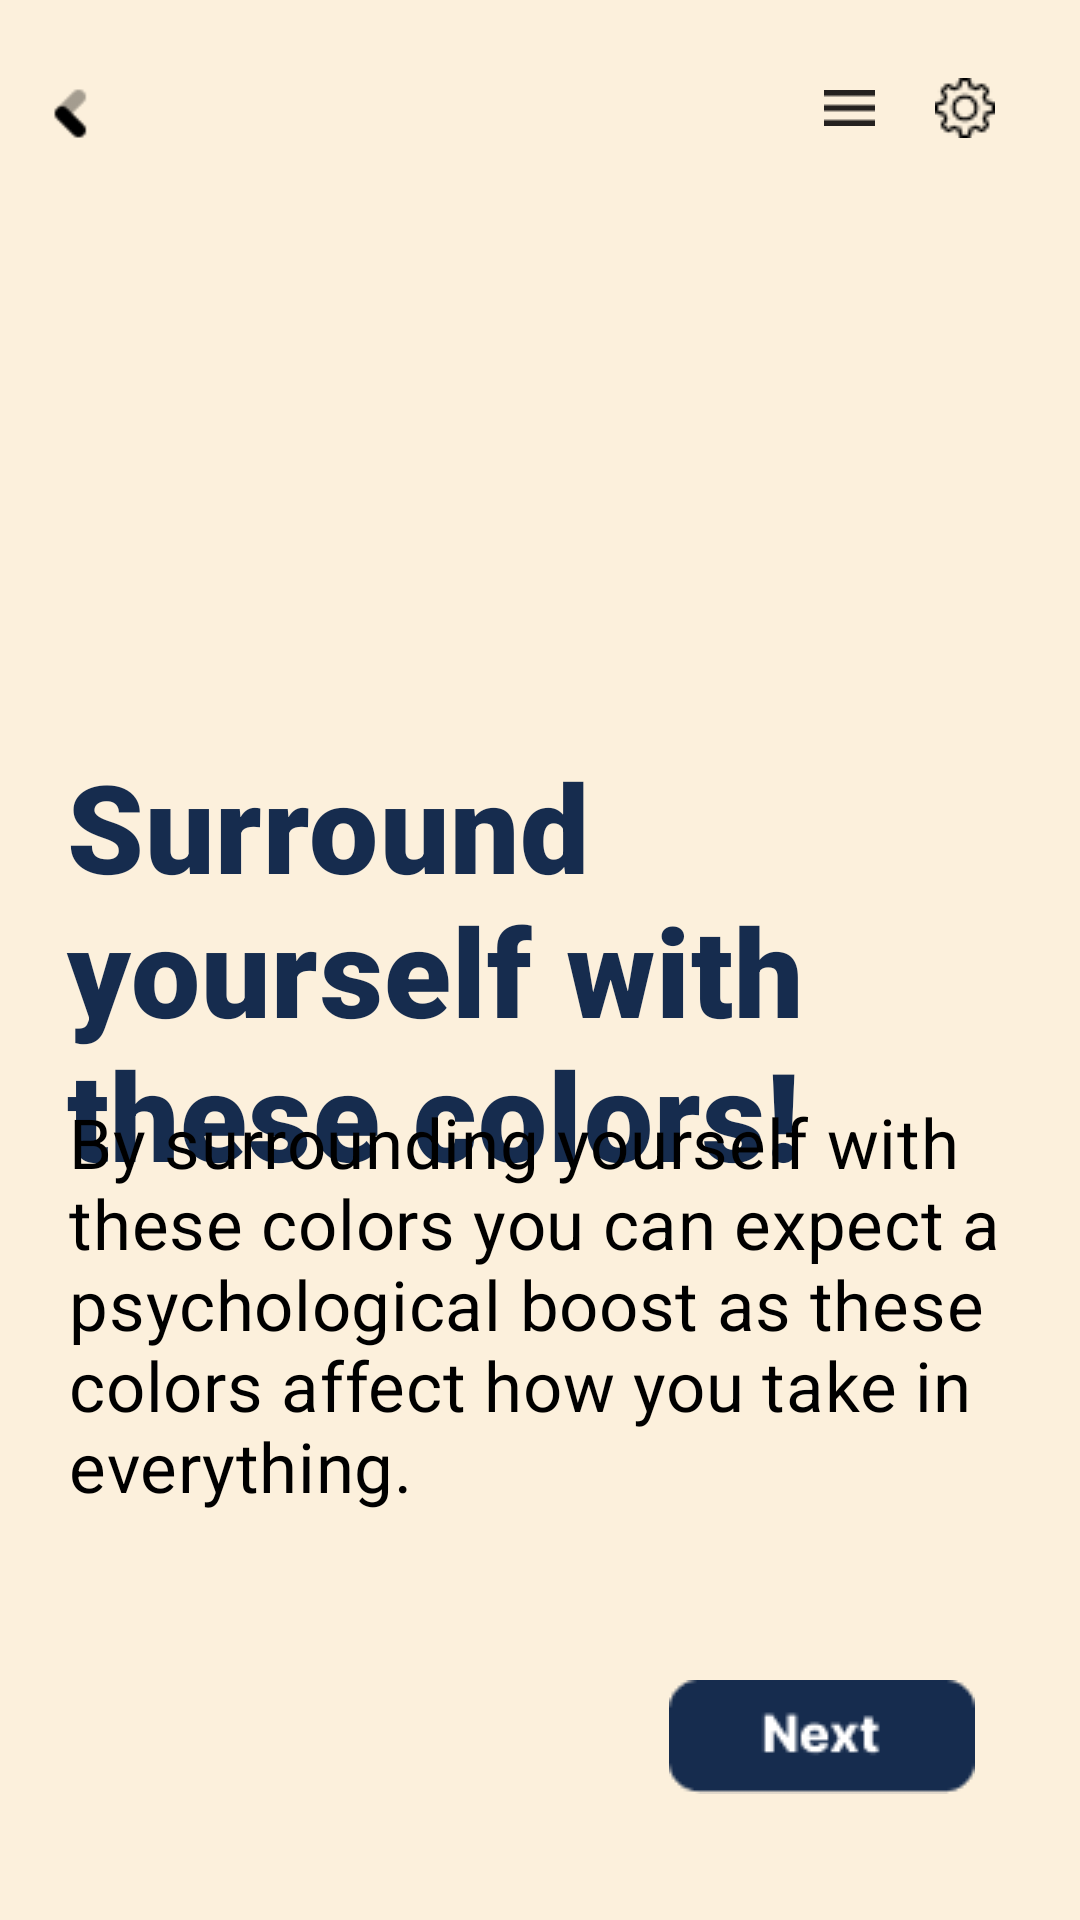

Icon click points for this 1080px×1920px phone screenshot, format (x=x, y=y):
back: (x=70, y=113)
menu: (x=849, y=108)
settings: (x=965, y=108)
